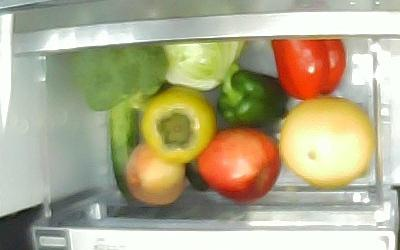apple: (197, 128, 282, 203)
broccoli: (70, 44, 168, 112)
cucumber: (108, 98, 141, 208)
grapefruit: (279, 96, 375, 189)
lettuce: (163, 39, 243, 91)
paprika: (270, 38, 346, 100), (217, 64, 288, 127)
peach: (126, 142, 185, 207)
persimmon: (140, 86, 217, 164)
